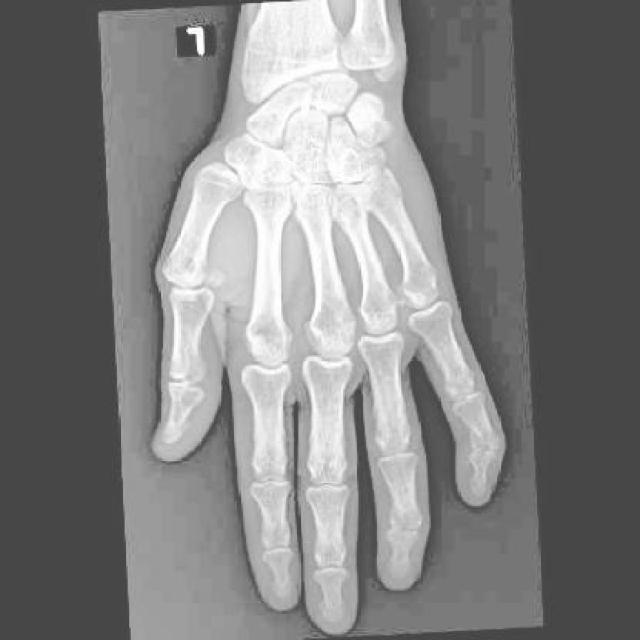Fracture: (469, 425, 502, 458)
